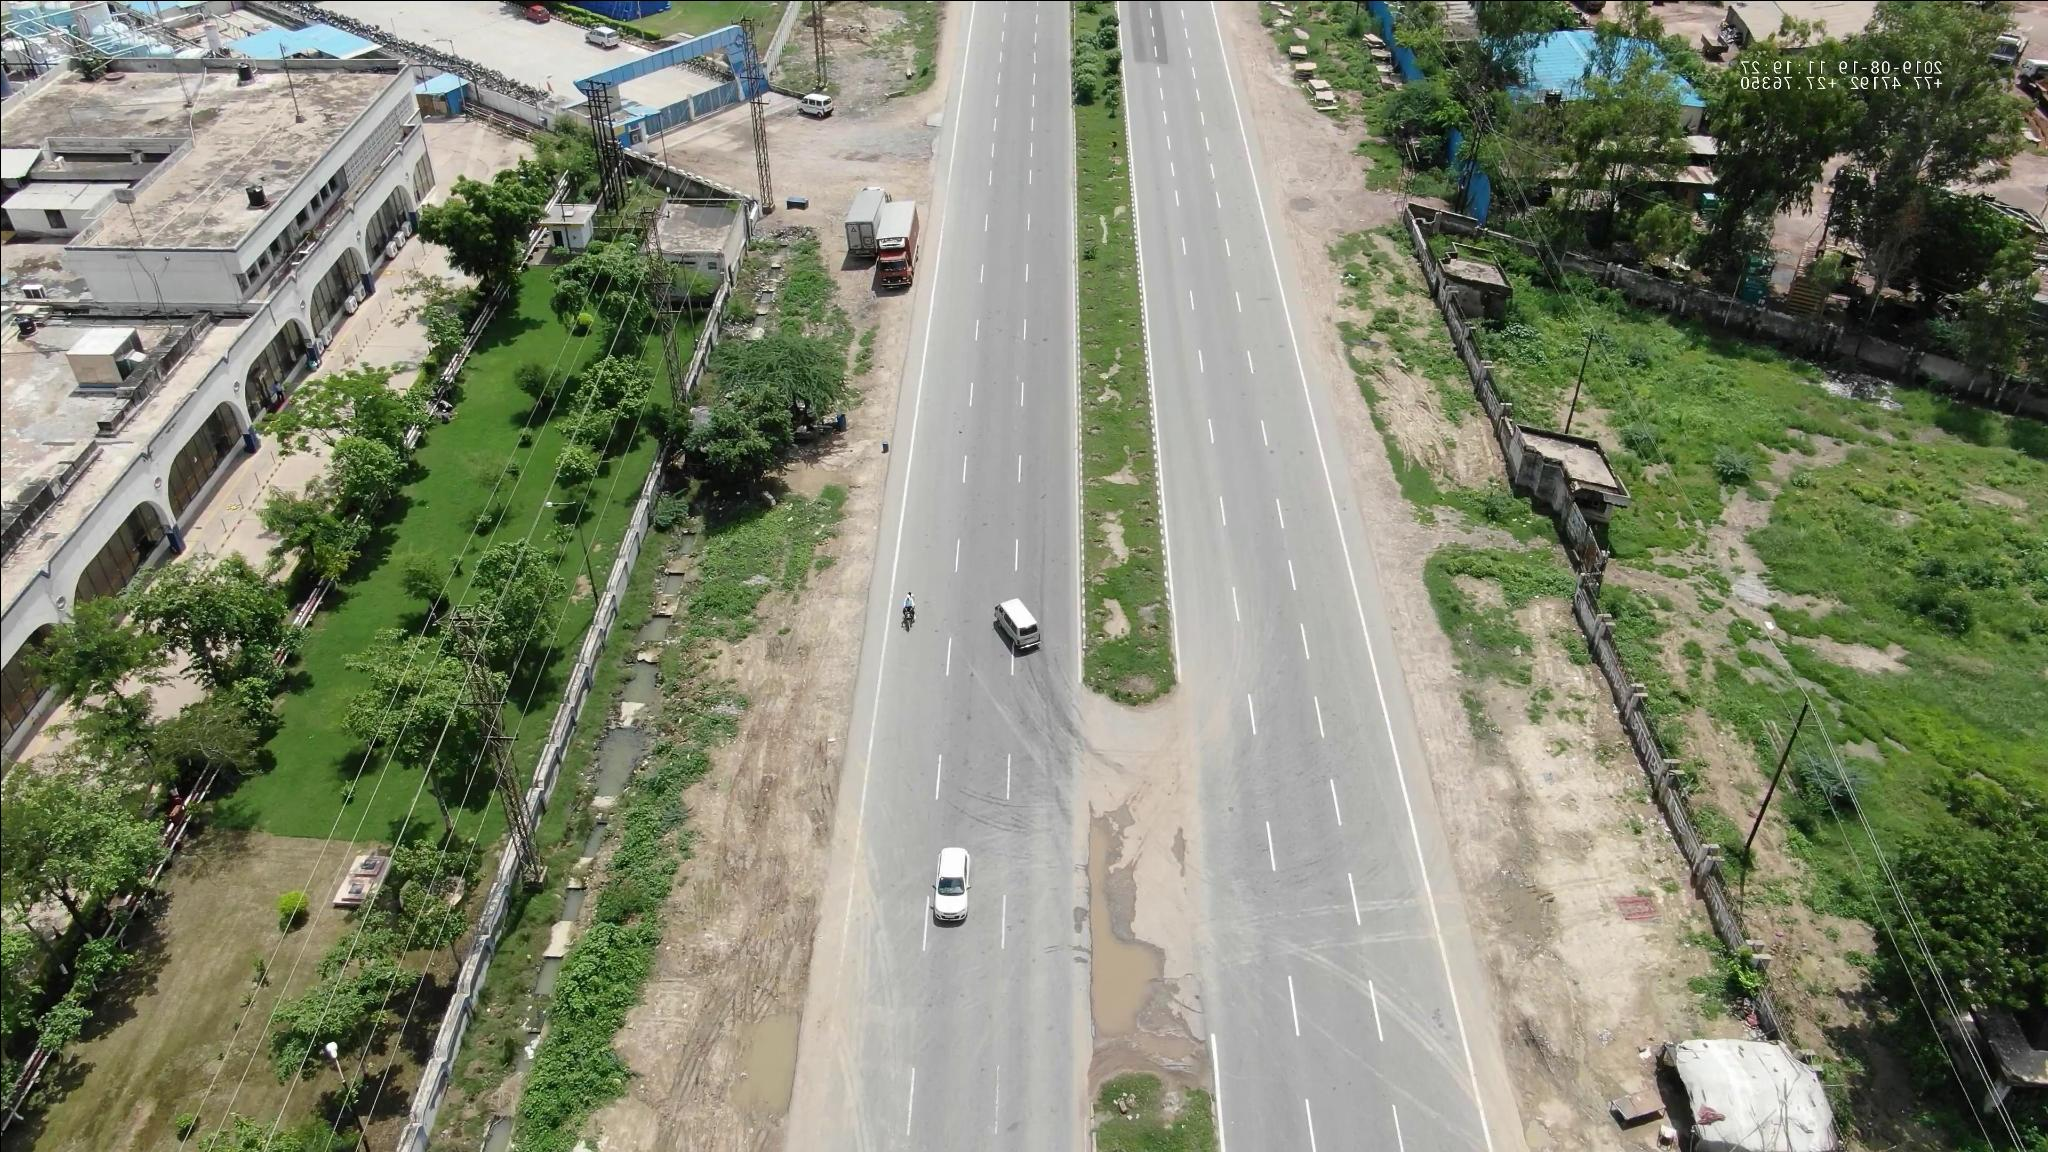Waterlogging: (1039, 795, 1162, 1014)
